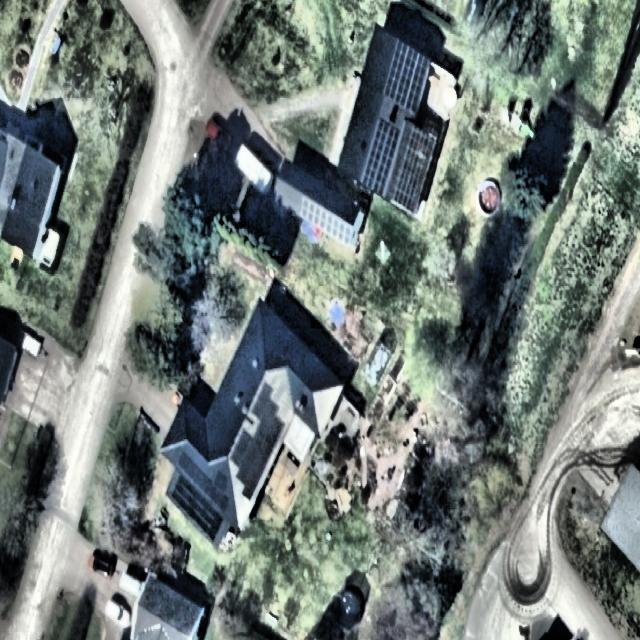roof_pv: (168, 450, 231, 543), (359, 115, 404, 199), (388, 38, 430, 112), (299, 196, 355, 249), (230, 426, 256, 501), (256, 418, 286, 473), (251, 376, 284, 420)
